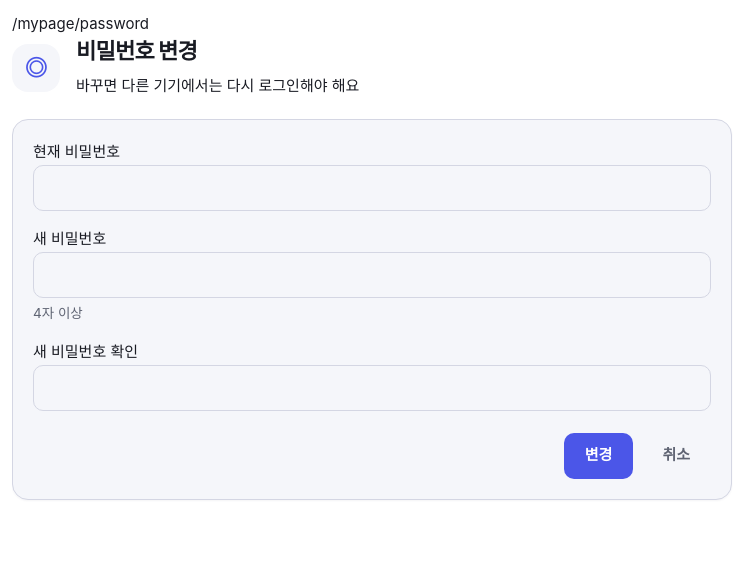
비밀번호 변경 — 서버 판정 (AC-A-22 ~ 25) › 새 비밀번호 확인이 다르면 안내가 보이고 화면에 머문다
The width and height of the screenshot is (749, 577).
Type "1234" into the password field labelled "현재 비밀번호".
click(372, 188); type("1234")  # box [33,165,711,211]
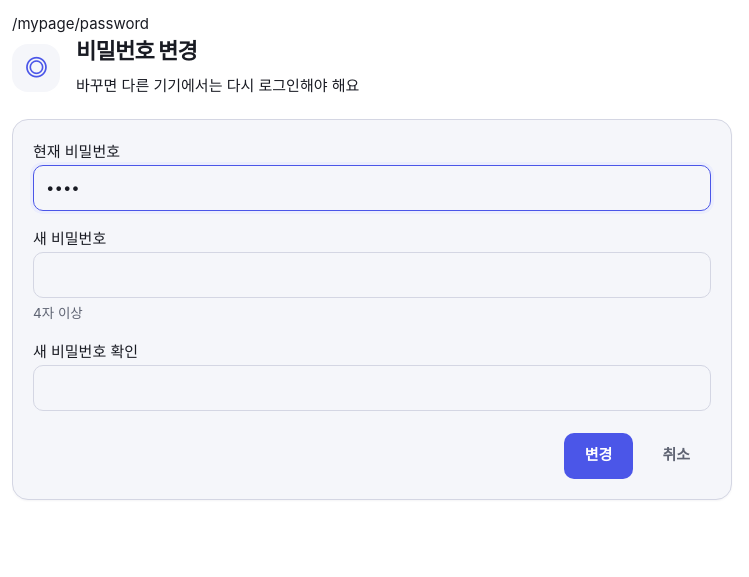
Type "newpass1234" into the password field labelled "새 비밀번호".
click(372, 275); type("newpass1234")  # box [33,252,711,298]
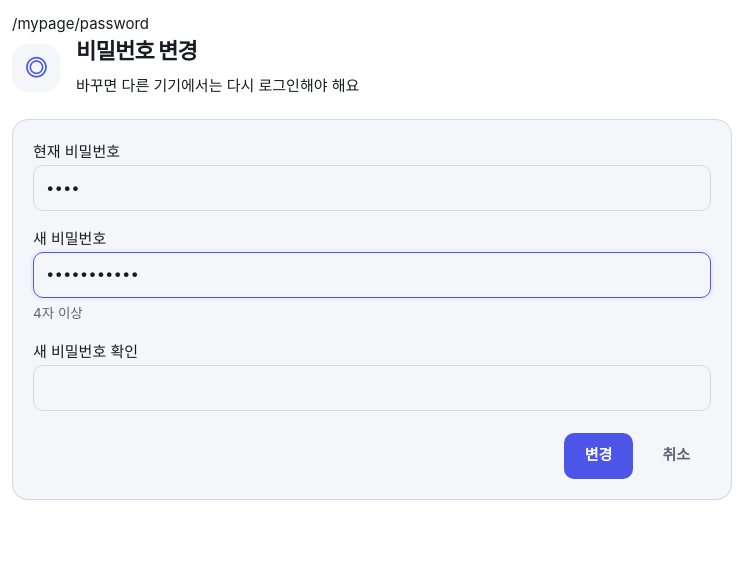
Type "different1234" into the password field labelled "새 비밀번호 확인".
click(372, 388); type("different1234")  # box [33,365,711,411]
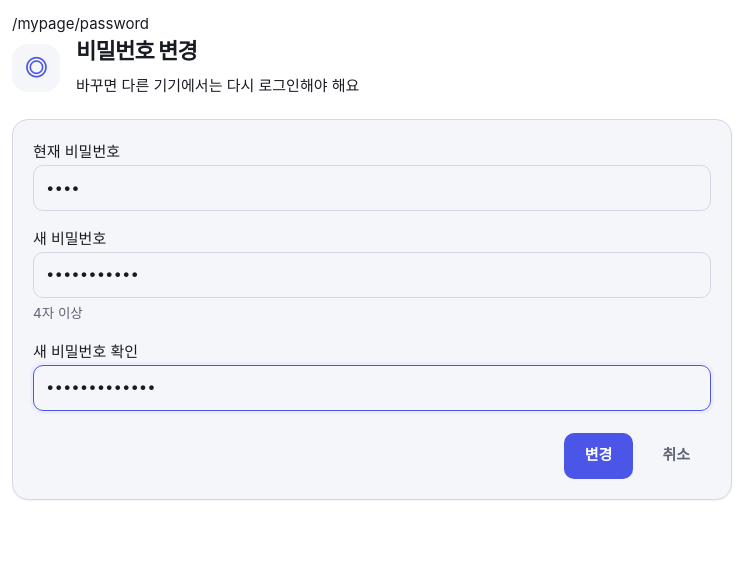
Click the button "변경".
click(599, 456)  # box [564,433,633,479]
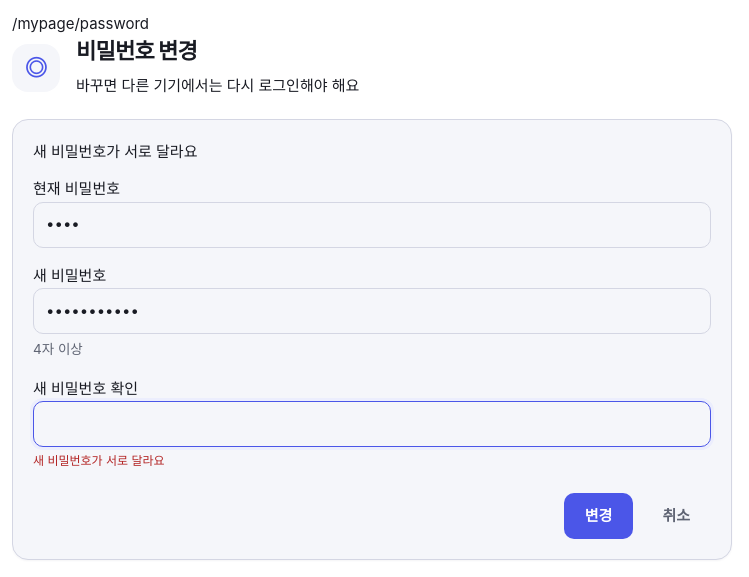
Check: the text with test id "location" reads "/mypage/password", box [12,14,149,33]
Check: the message "새 비밀번호가 서로 달라요" is shown, box [33,142,198,161]
